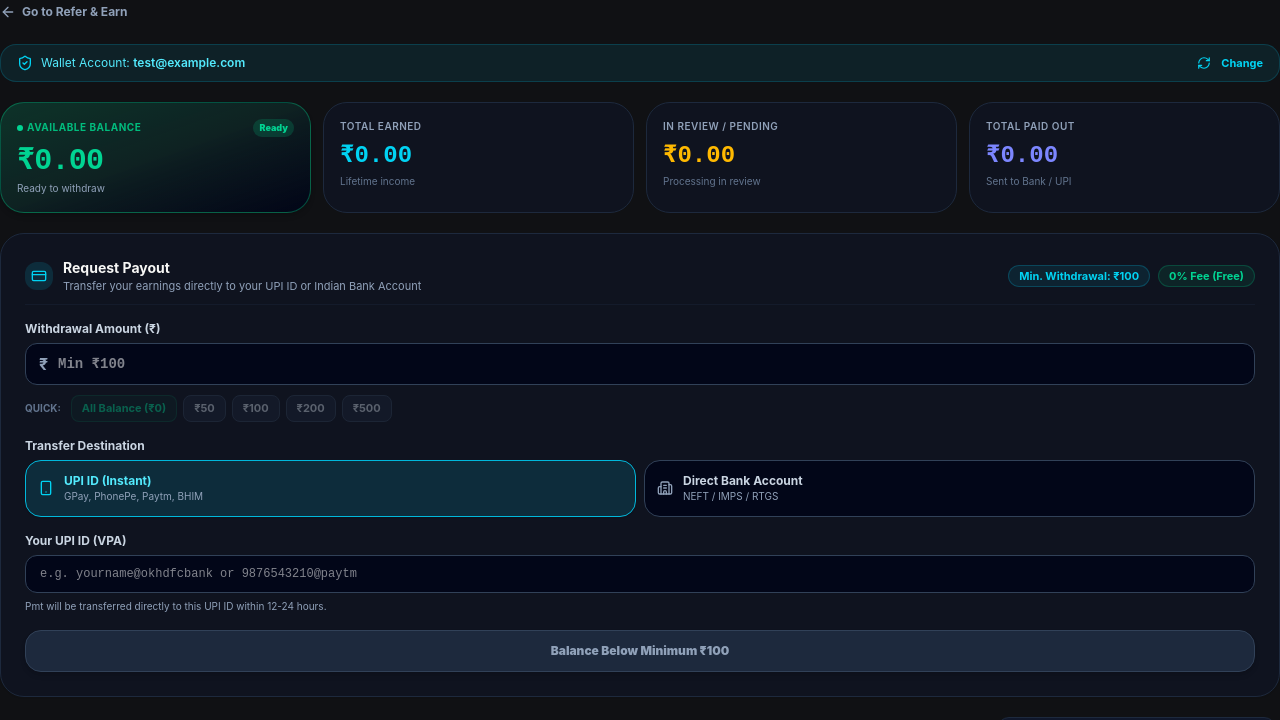
it: Referral & Earnings Screens › EarningsWithdrawalScreen › allows switching to Bank Account mode
Click the button "Direct Bank Account NEFT / IMPS / RTGS": (743, 480) [644,460,1255,516]
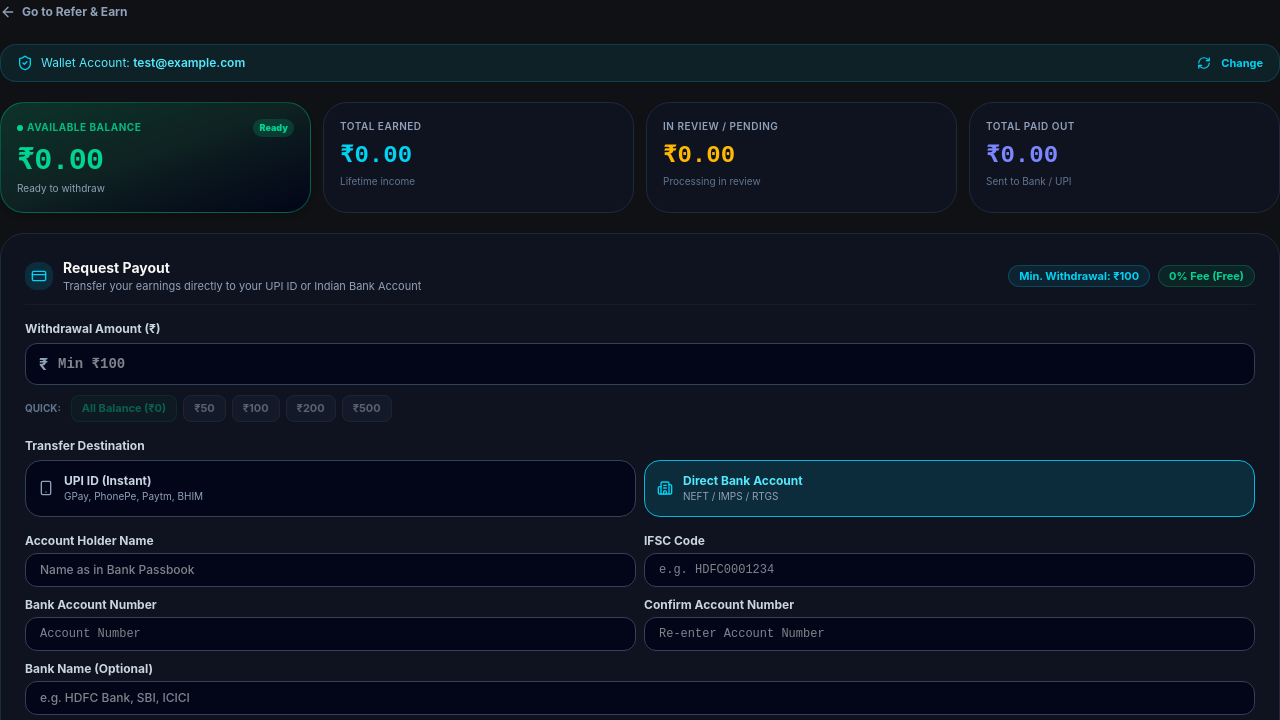
Expected: the text "Account Holder Name" is shown, [25,532,154,548]
Expected: the text "Bank Account Number" is shown, [25,596,157,612]
Expected: the text "Confirm Account Number" is shown, [644,596,794,612]
